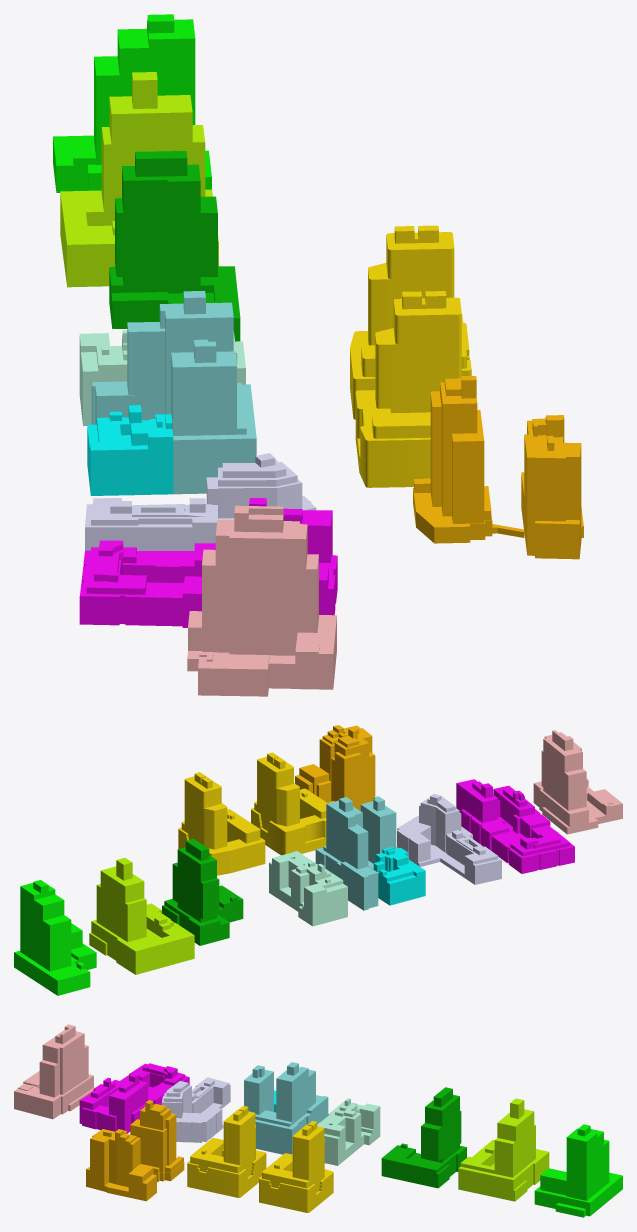
File: B_heights.gltf
3 renders of one model, top to bottom at view 1: azimuth 30°, elevation 25°; view 2: azimuth 150°, elevation 25°; view 3: azimuth 270°, elevation 25°, orthographic. The views are drawn at different scales.
Bounding box in the file's own units: 316 × 92.53 × 587.
